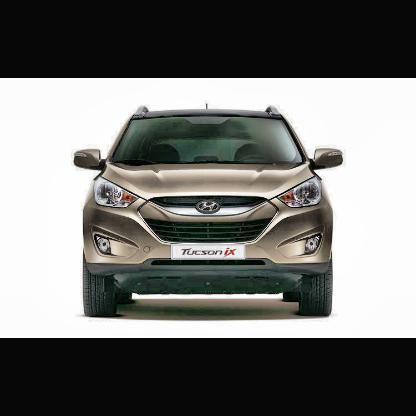Hyundai Tucson SUV 2012: (70, 100, 346, 323)
